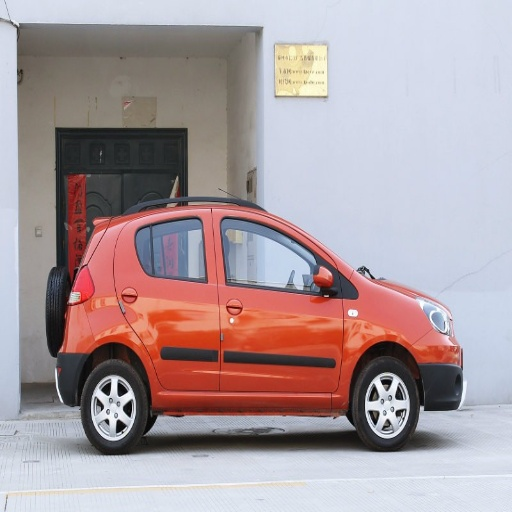back_right_door: (117, 207, 223, 395)
front_right_door: (215, 211, 340, 409)
